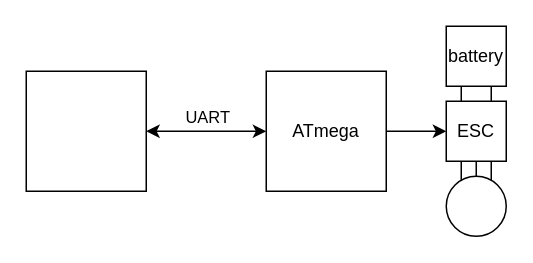
The diagram is 533 pixels wide and 263 high, and some of its shapes have lost their labels. The box of each missing label's shape, as (x1, y1, x2, y2) in pixels:
BLDC: (445, 175, 506, 236)
PC: (25, 70, 146, 191)
